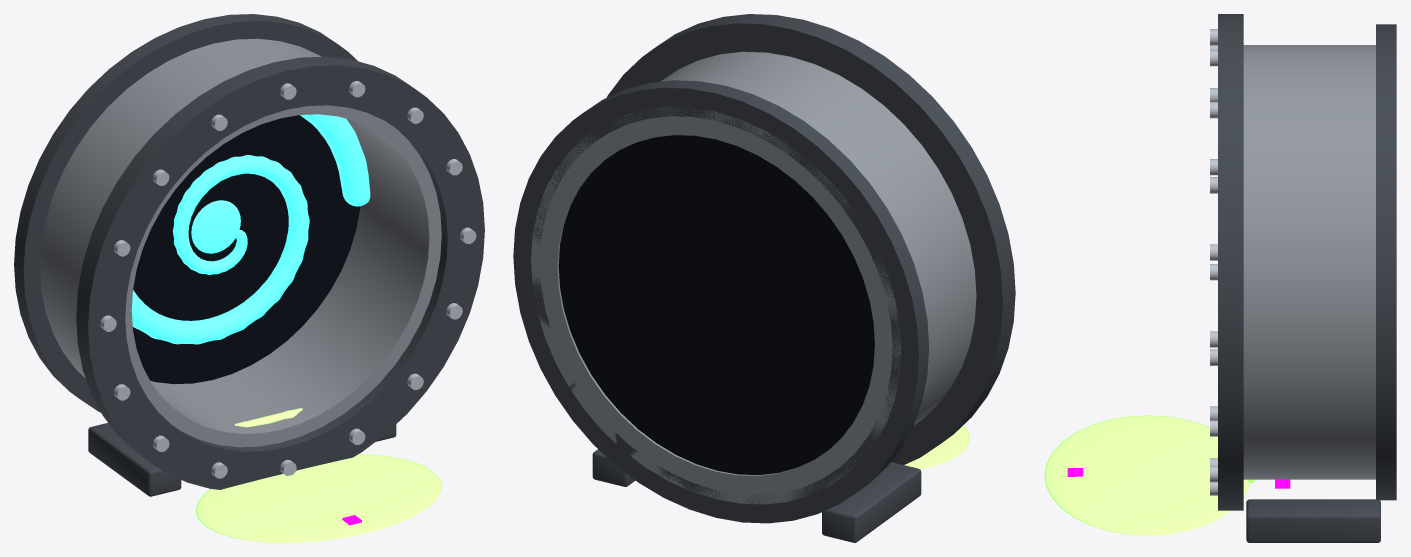
The model's file is ToiletPortal.glb.
3 views of the same model, side by side, from view 1: azimuth 30°, elevation 25°; view 2: azimuth 150°, elevation 25°; view 3: azimuth 270°, elevation 25° (orthographic). The views are drawn at different scales.
Parts seen in each view (by area): view 1: Pipe, Flange, Back, BackFlange, Puddle, Vortex, StrutR, SwirlCore; view 2: Back, Pipe, BackFlange, Flange, StrutR, Puddle, StrutL; view 3: Pipe, Puddle, Flange, BackFlange, StrutL.
Part boxes in pixels (left/top/right/bottom): Pipe: left=40, top=38, right=441, bottom=447; Flange: left=76, top=56, right=484, bottom=489; Back: left=132, top=115, right=360, bottom=384; BackFlange: left=14, top=14, right=358, bottom=412; Puddle: left=195, top=454, right=441, bottom=542; Vortex: left=131, top=114, right=370, bottom=344; StrutR: left=88, top=423, right=181, bottom=496; SwirlCore: left=191, top=200, right=240, bottom=253; Back: left=558, top=135, right=874, bottom=474; Pipe: left=531, top=51, right=976, bottom=504; BackFlange: left=513, top=80, right=929, bottom=523; Flange: left=607, top=14, right=1015, bottom=464; StrutR: left=822, top=462, right=921, bottom=542; Puddle: left=904, top=425, right=969, bottom=469; StrutL: left=592, top=449, right=635, bottom=486; Pipe: left=1243, top=45, right=1375, bottom=479; Puddle: left=1044, top=415, right=1250, bottom=535; Flange: left=1218, top=14, right=1243, bottom=510; BackFlange: left=1376, top=24, right=1396, bottom=500; StrutL: left=1246, top=499, right=1380, bottom=542.
Size of the model in its own units: 9.6 by 9.6 by 6.8.
